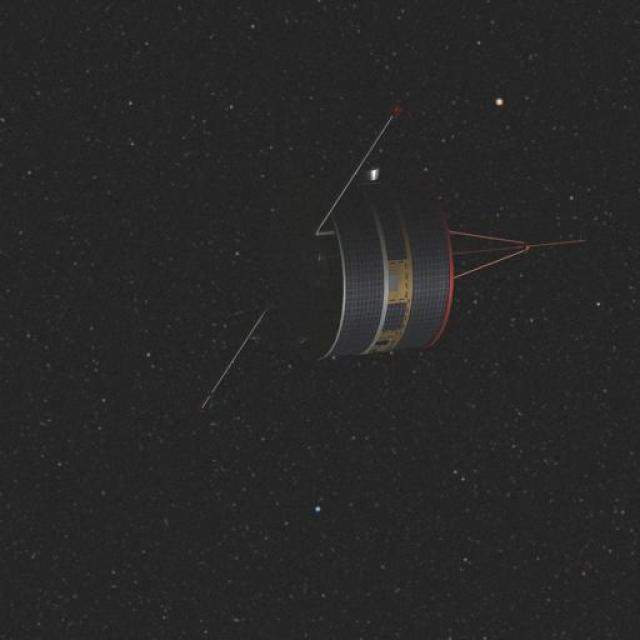double_start: (250, 126, 481, 375)
